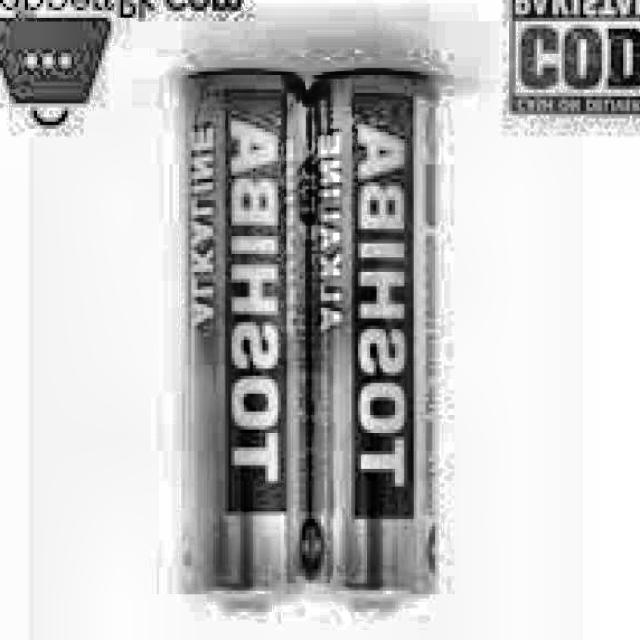battery: (302, 79, 432, 608), (180, 69, 306, 614)
